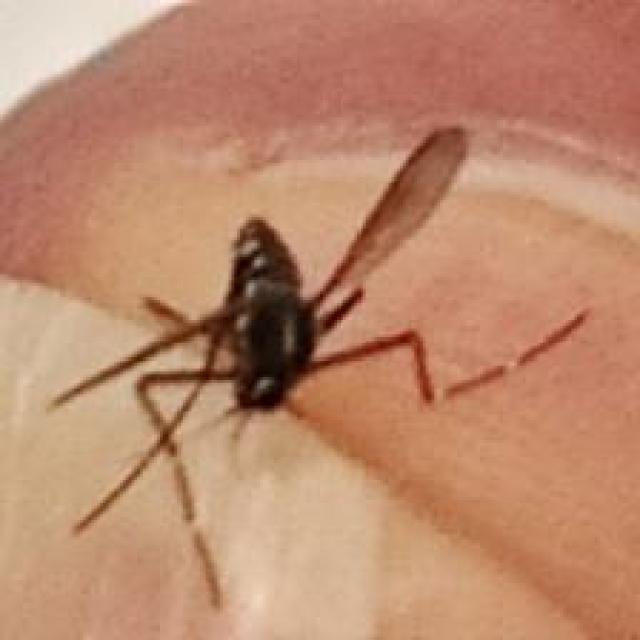Aedes albopictus: (46, 124, 591, 610)
